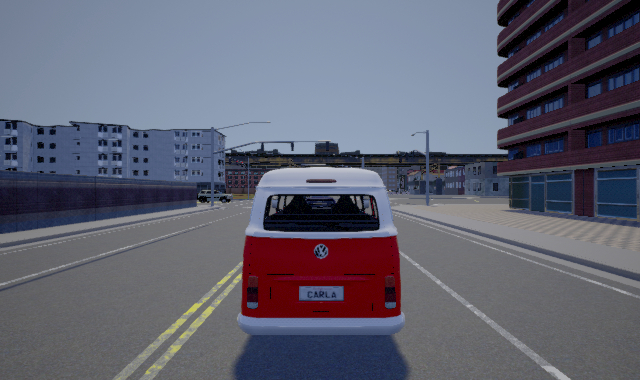vehicle: (237, 167, 405, 335), (196, 188, 234, 204)
